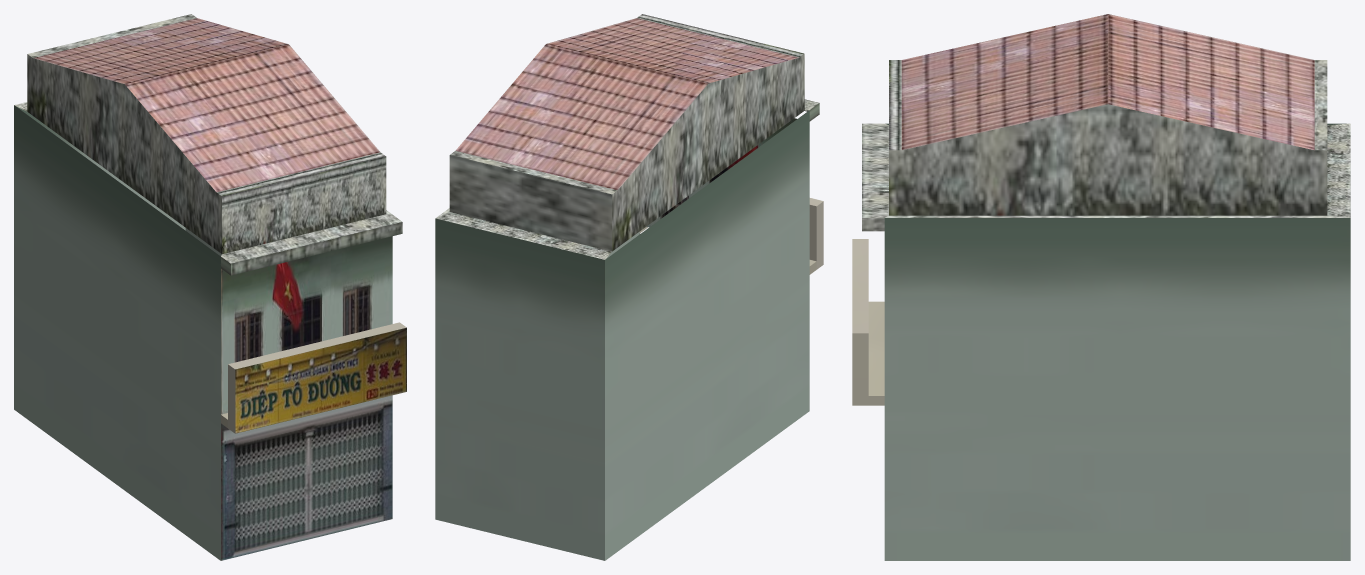
The picture shows the model from 3 angles, left to right: view 1: azimuth 30°, elevation 25°; view 2: azimuth 150°, elevation 25°; view 3: azimuth 270°, elevation 25°; orthographic projection. The views are drawn at different scales.
Visible parts, largest first — view 1: 5cda3ce428a55ef7c0301e29.001; view 2: 5cda3ce428a55ef7c0301e29.001; view 3: 5cda3ce428a55ef7c0301e29.001.
Boxes of the visible parts, x1,y1,x2,y2 form: 5cda3ce428a55ef7c0301e29.001: (14, 14, 406, 560); 5cda3ce428a55ef7c0301e29.001: (435, 14, 823, 560); 5cda3ce428a55ef7c0301e29.001: (852, 14, 1350, 560).
Bounding box in the file's own units: 4.3 × 9.64 × 9.59.
1 material, 1 textured.
